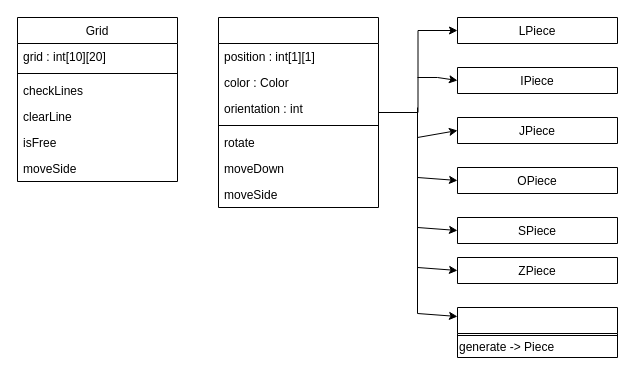
Image size: 635x375. Some labels were removed from this diagram. Each missing label, with the box of its shape:
Piece: (218, 16, 378, 208)
PiecesGenerator: (456, 306, 618, 358)
